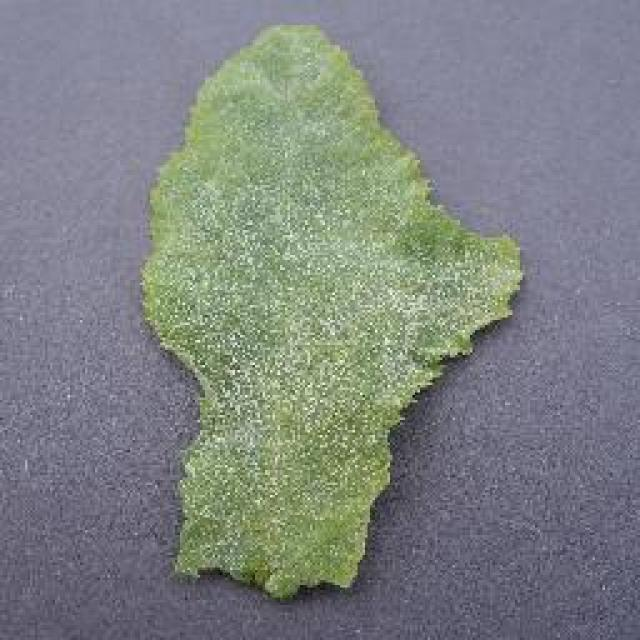Squ_Powdery_mildew: (170, 96, 431, 510)
